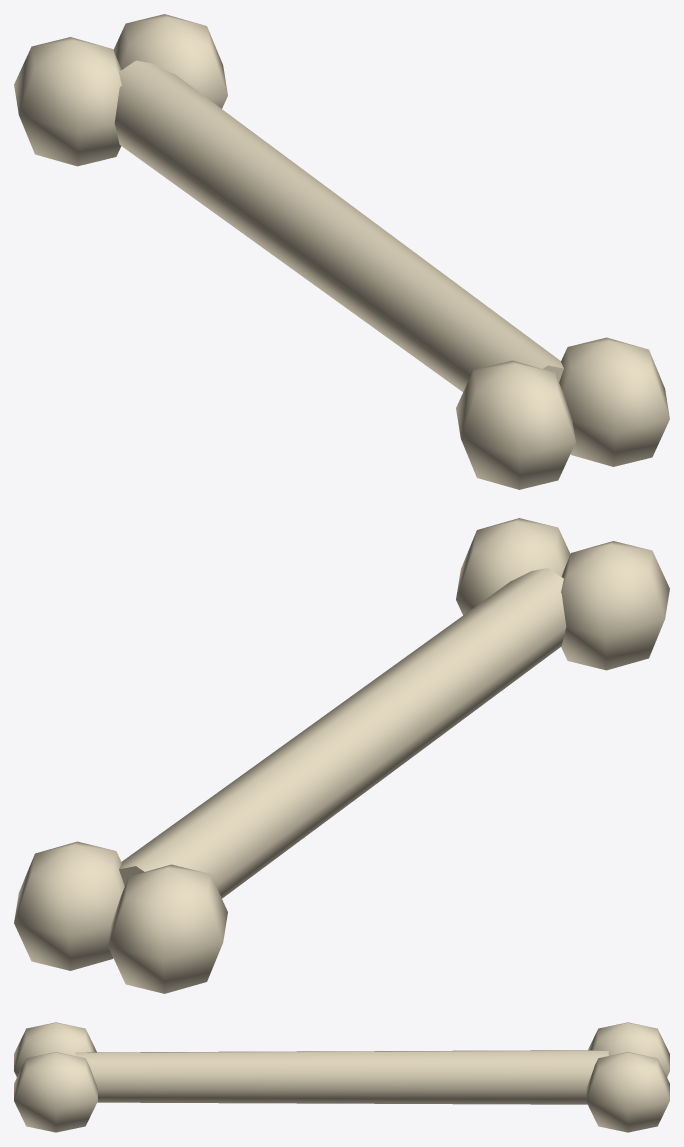
The model's file is BONE.glb.
3 renders of one model, top to bottom at view 1: azimuth 30°, elevation 25°; view 2: azimuth 150°, elevation 25°; view 3: azimuth 270°, elevation 25°, orthographic. The views are drawn at different scales.
Parts seen in each view (by area): view 1: bone_0; view 2: bone_0; view 3: bone_0.
Part boxes in pixels (<box>): bone_0: <box>14,14,669,489</box>; bone_0: <box>14,518,669,993</box>; bone_0: <box>14,1022,669,1132</box>.
Size of the model in its own units: 0.063 by 0.036 by 0.2706.
